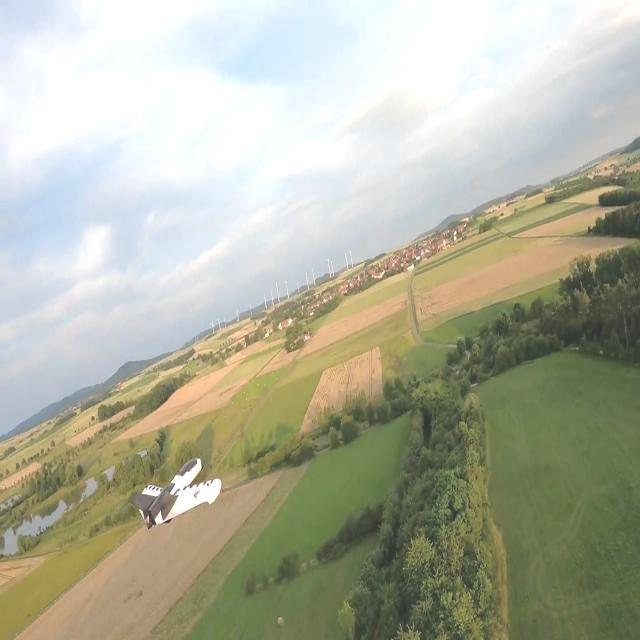iha: (162, 491, 193, 494)
